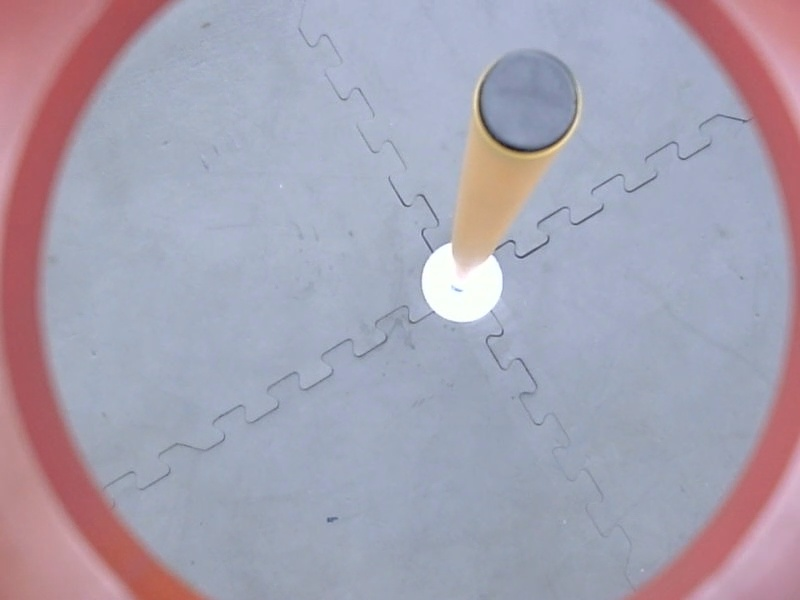tip: (466, 41, 589, 166)
